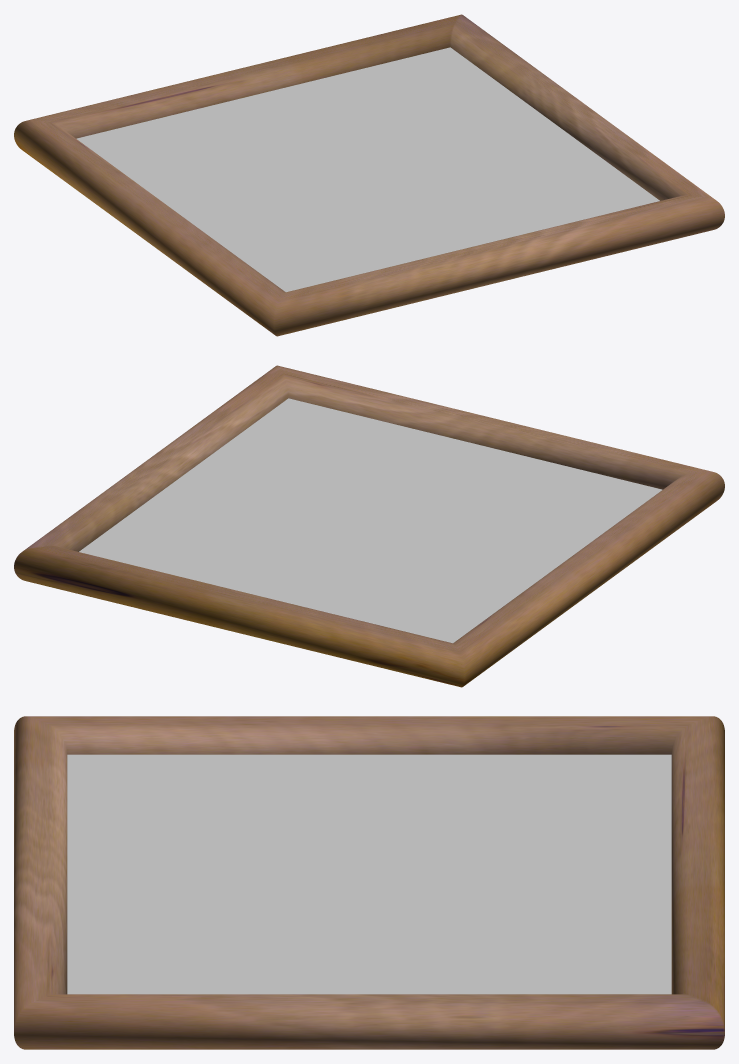
The model's file is Bild mir Rahmen.fbx.
3 renders of one model, top to bottom at view 1: azimuth 30°, elevation 25°; view 2: azimuth 150°, elevation 25°; view 3: azimuth 270°, elevation 25°, orthographic. The views are drawn at different scales.
Visible parts, largest first — view 1: Glas, Ramen; view 2: Glas, Ramen; view 3: Glas, Ramen.
Boxes of the visible parts, x1,y1,x2,y2 form: Glas: [76, 47, 659, 292]; Ramen: [14, 14, 724, 336]; Glas: [79, 398, 662, 643]; Ramen: [14, 365, 724, 687]; Glas: [67, 754, 671, 994]; Ramen: [14, 716, 724, 1049].
Size of the model in its own units: 424 by 30 by 424.
4 materials, 3 textured.
